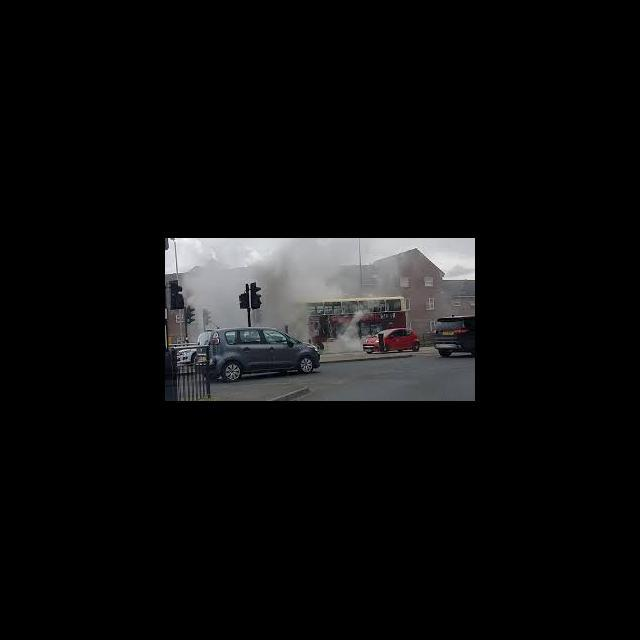Smoke: (188, 239, 353, 340), (331, 312, 364, 352)
